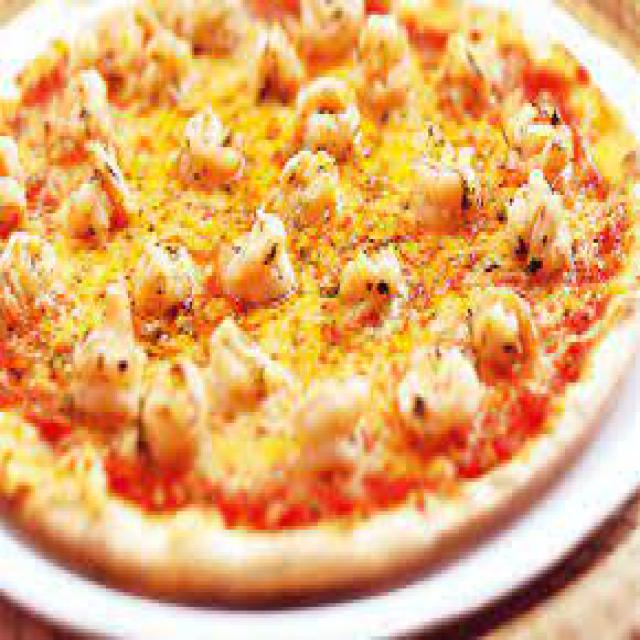camarao: (70, 286, 142, 426), (404, 139, 486, 251), (395, 350, 480, 437), (219, 218, 299, 307), (290, 74, 359, 170), (176, 101, 248, 185)
pizza: (0, 0, 638, 600)
